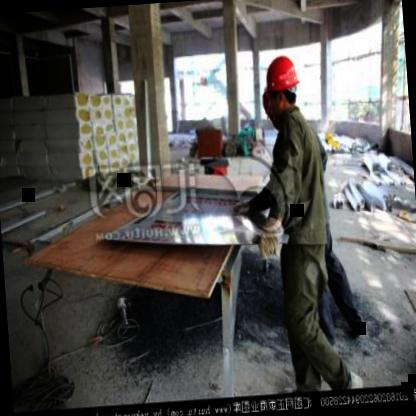helmet: (262, 52, 300, 117), (262, 87, 288, 134)
